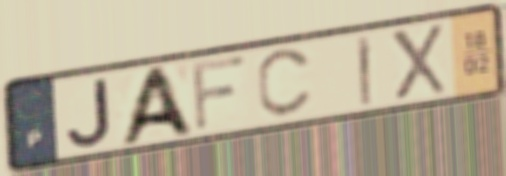A: (114, 62, 199, 149)
C: (254, 45, 317, 121)
F: (189, 51, 250, 135)
I: (354, 32, 374, 109)
J: (64, 75, 115, 149)
X: (386, 21, 450, 104)
